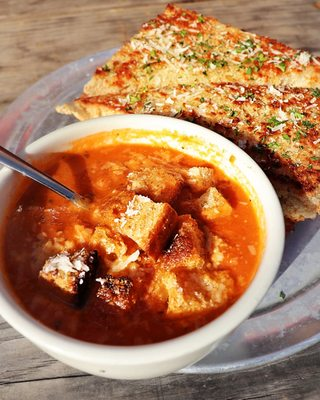salad: (0, 145, 81, 201)
sushi: (1, 90, 286, 383)
